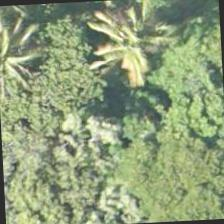Kelapa_Sawit: (86, 0, 181, 86), (0, 4, 51, 98)
